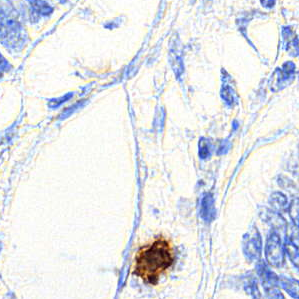Lymphocyte: (135, 237, 175, 286)
